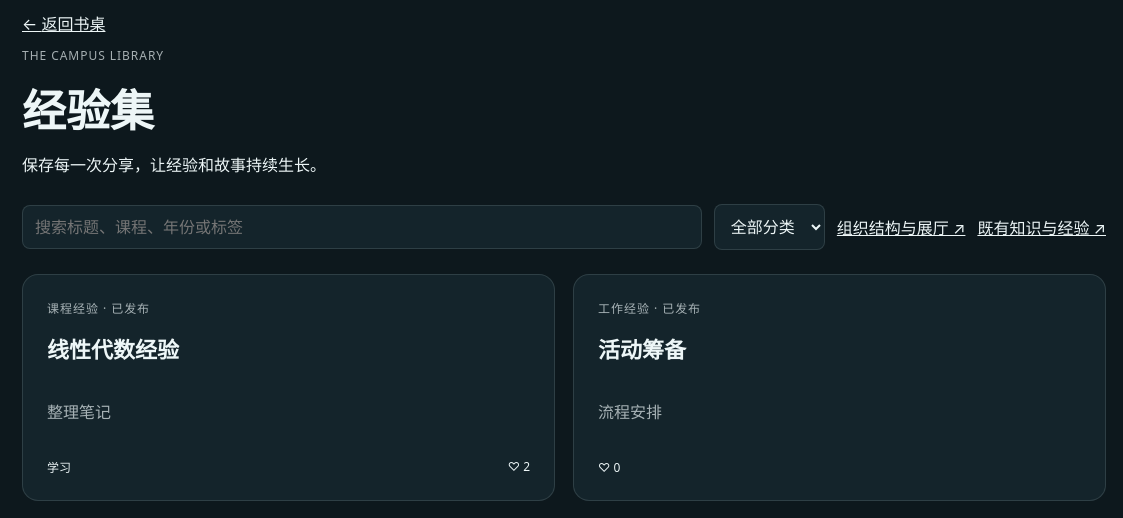
publishing catalog › shows read-only catalog to ordinary readers and filters text
Expected: the heading "线性代数经验" is shown, [47,334,179,364]
Type "数学" into the field named "搜索内容" at (362, 227), box [22,205,702,249]
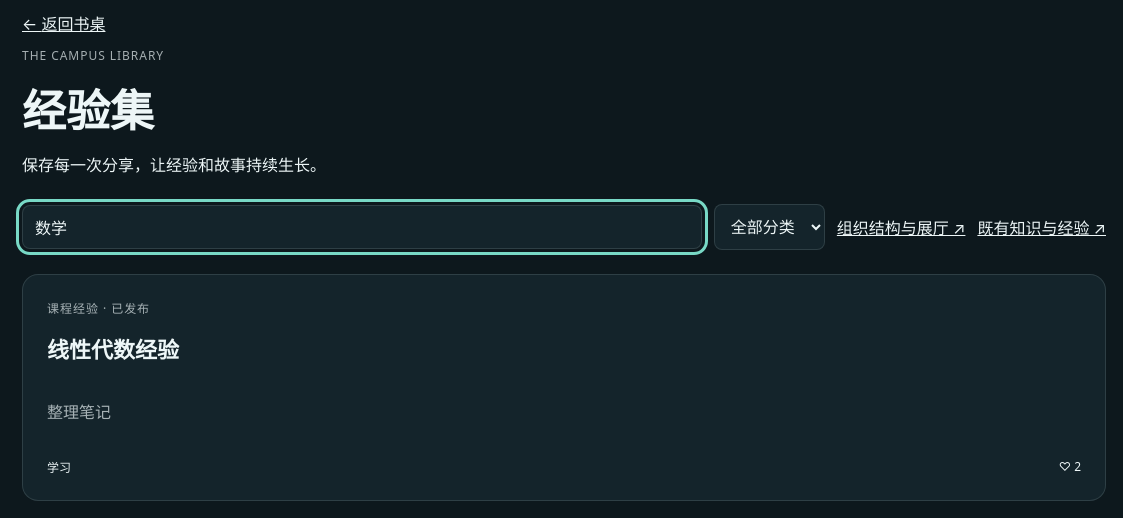
Result: the link "活动筹备" is gone
